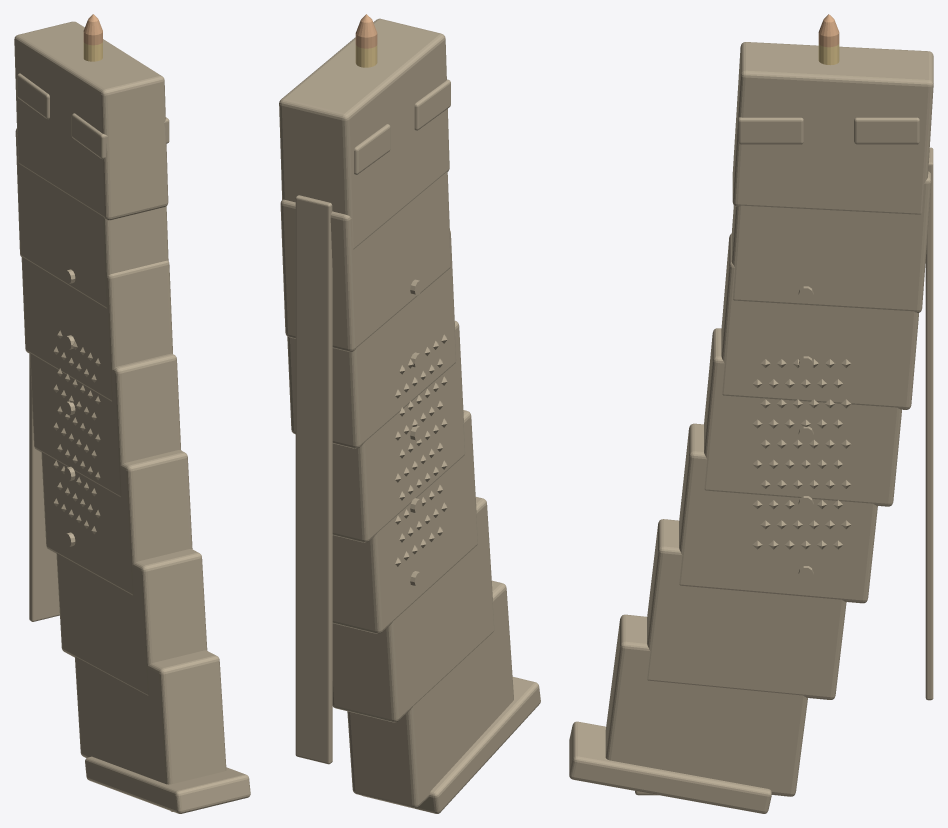
The model's file is mod-carbine-magazine-33393.glb.
3 renders of one model, left to right at view 1: azimuth 30°, elevation 25°; view 2: azimuth 150°, elevation 25°; view 3: azimuth 270°, elevation 25°, orthographic. The views are drawn at different scales.
Size of the model in its own units: 0.5568 by 5.32 by 2.25.
